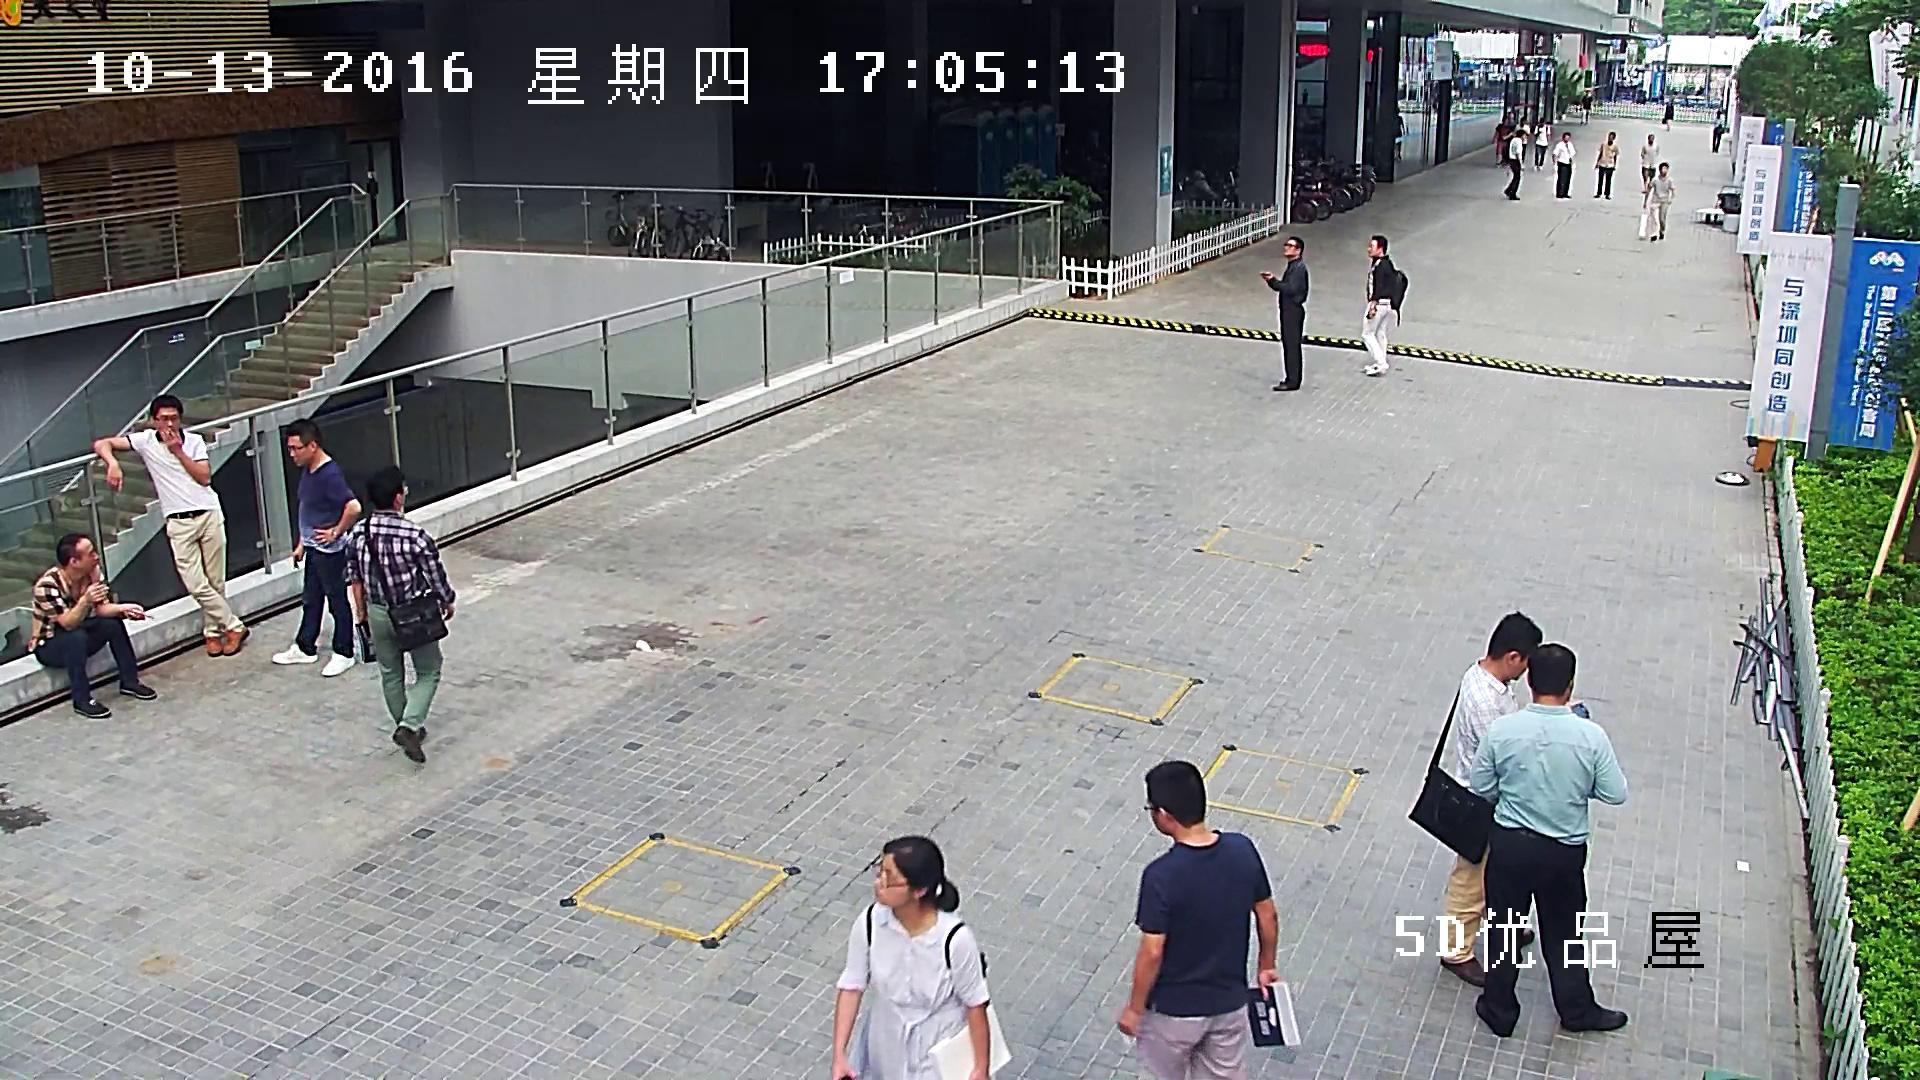person: (1469, 643, 1628, 1037), (1118, 761, 1300, 1080), (1409, 614, 1542, 985), (832, 837, 1010, 1080), (94, 394, 249, 655), (344, 466, 455, 762), (28, 533, 156, 718), (271, 418, 361, 677), (1260, 236, 1308, 390), (1360, 234, 1407, 375), (1638, 162, 1675, 241), (1646, 162, 1675, 241), (1592, 132, 1619, 198), (1500, 128, 1525, 199), (1552, 132, 1576, 198), (1640, 133, 1660, 193), (1492, 116, 1512, 165), (1533, 117, 1550, 167), (1514, 116, 1530, 161), (1395, 107, 1405, 161), (1712, 111, 1724, 152), (1579, 90, 1592, 125), (1662, 100, 1674, 129), (1506, 110, 1516, 141)
